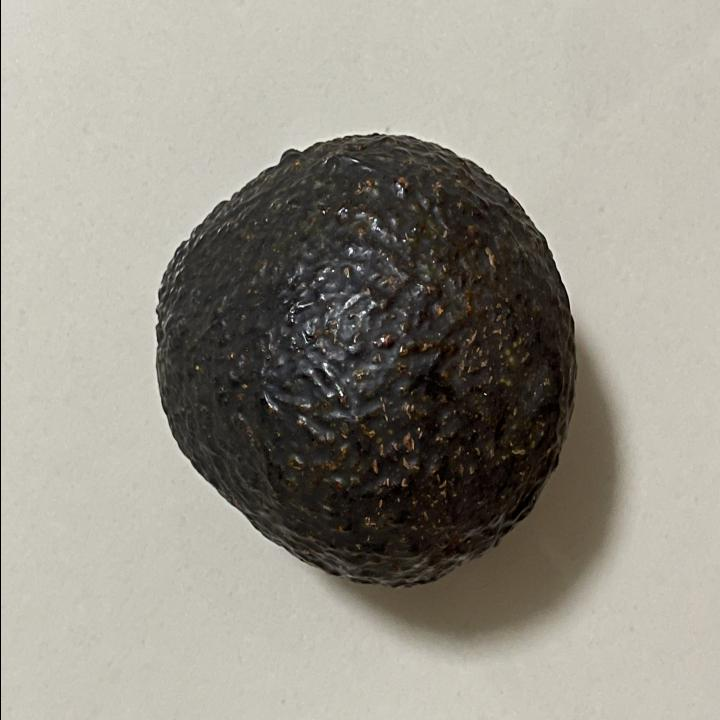Level2: (142, 122, 580, 598)
